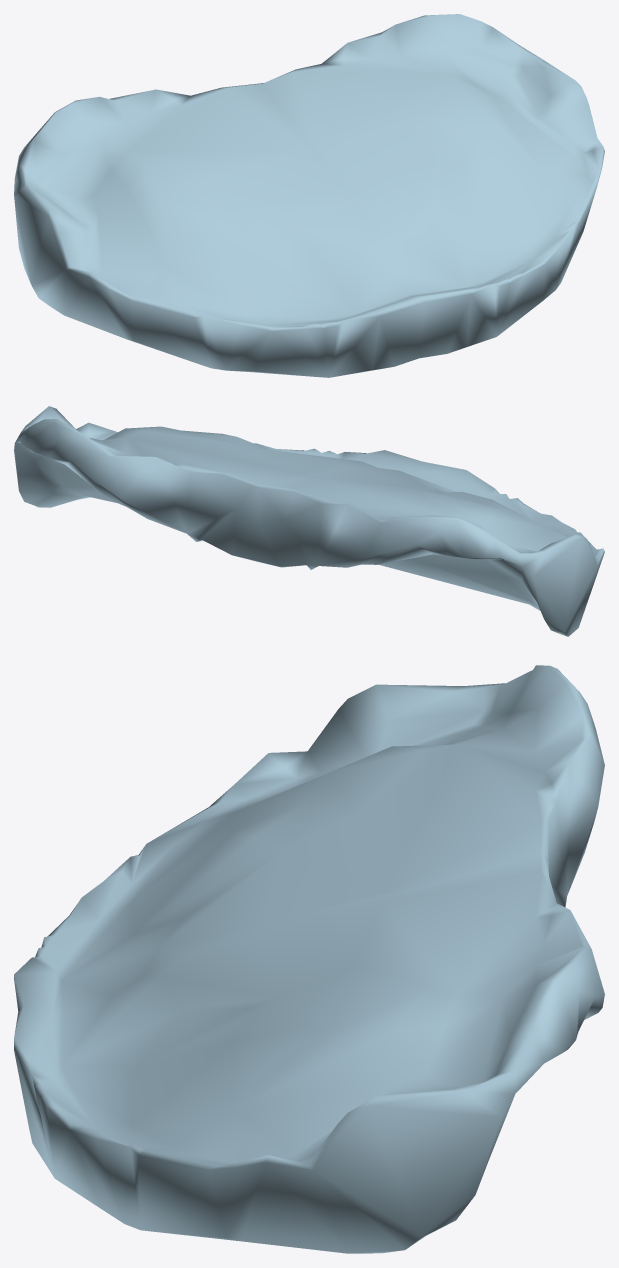
The model's file is articulacoes-intervertebral-disc-t1-t2.glb.
The picture shows the model from 3 angles, top to bottom: view 1: azimuth 30°, elevation 25°; view 2: azimuth 150°, elevation 25°; view 3: azimuth 270°, elevation 25°; orthographic projection. The views are drawn at different scales.
Visible parts, largest first — view 1: Intervertebral disc T1-T2; view 2: Intervertebral disc T1-T2; view 3: Intervertebral disc T1-T2.
Part boxes in pixels (left/top/right/bottom): Intervertebral disc T1-T2: left=14, top=14, right=604, bottom=377; Intervertebral disc T1-T2: left=14, top=406, right=604, bottom=636; Intervertebral disc T1-T2: left=14, top=665, right=604, bottom=1253.
Bounding box in the file's own units: 0.0334 × 0.0108 × 0.02.
